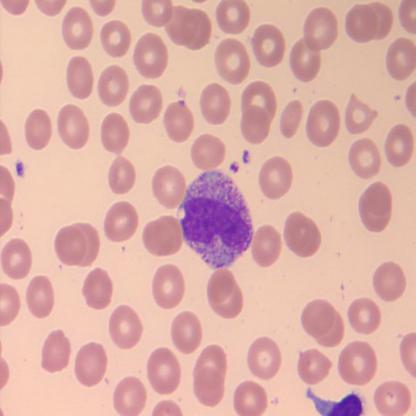Metamyelocyte: (176, 168, 255, 273)
